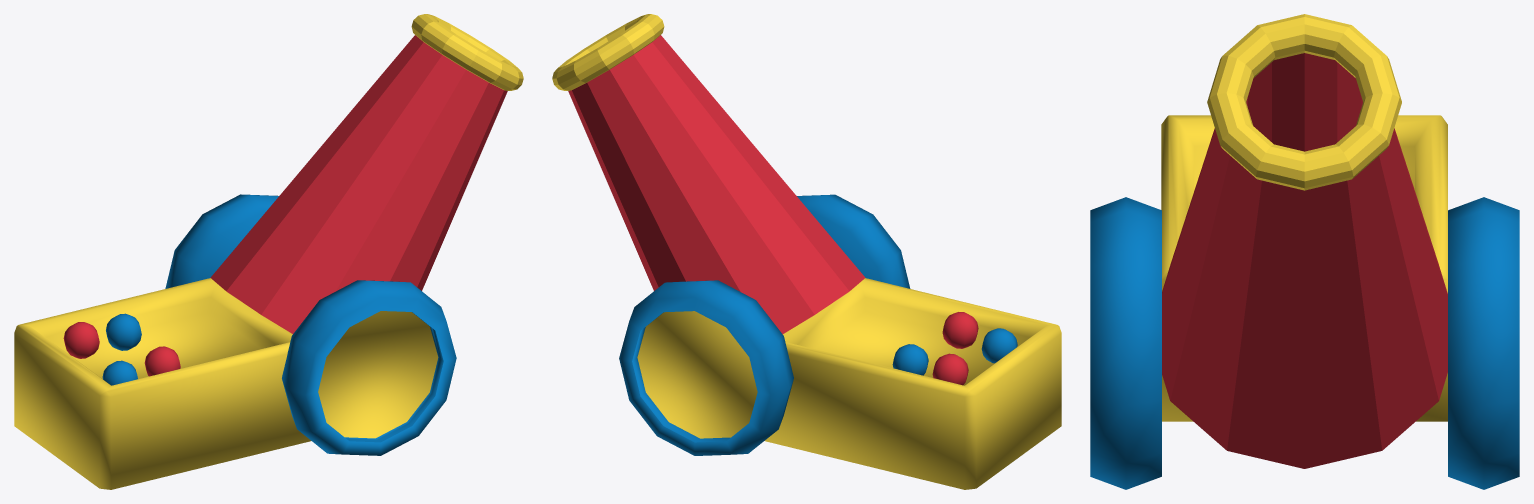
File: toyCannon.fbx
3 views of the same model, side by side, from view 1: azimuth 30°, elevation 25°; view 2: azimuth 150°, elevation 25°; view 3: azimuth 270°, elevation 25° (orthographic). The views are drawn at different scales.
Visible parts, largest first — view 1: Cylinder, Cylinder.017, Cylinder.016, Cylinder.018, Cylinder.015, Cylinder.019, Cylinder.020, Cylinder.010, Cylinder.009, Cylinder.011; view 2: Cylinder, Cylinder.014, Cylinder.015, Cylinder.013, Cylinder.016, Cylinder.024, Cylinder.023, Cylinder.003, Cylinder.002, Cylinder.012; view 3: Cylinder, Cylinder.022, Cylinder.021, Cylinder.023, Cylinder.020, Cylinder.024, Cylinder.019, Cylinder.015, Cylinder.016, Cylinder.005, Cylinder.006, Cylinder.004 (+11 smaller).
Boxes of the visible parts, x1,y1,x2,y2 form: Cylinder: (14, 194, 456, 489); Cylinder.017: (261, 55, 465, 333); Cylinder.016: (226, 42, 441, 314); Cylinder.018: (335, 70, 488, 291); Cylinder.015: (210, 35, 423, 290); Cylinder.019: (390, 83, 503, 286); Cylinder.020: (417, 90, 507, 290); Cylinder.010: (442, 34, 478, 69); Cylinder.009: (466, 48, 501, 82); Cylinder.011: (421, 21, 455, 54); Cylinder: (619, 194, 1061, 489); Cylinder.014: (610, 55, 814, 334); Cylinder.015: (634, 42, 849, 314); Cylinder.013: (587, 70, 740, 291); Cylinder.016: (652, 35, 865, 290); Cylinder.024: (572, 83, 685, 286); Cylinder.023: (568, 90, 658, 290); Cylinder.003: (597, 34, 633, 69); Cylinder.002: (574, 48, 609, 82); Cylinder.012: (620, 21, 654, 54); Cylinder: (1090, 115, 1519, 489); Cylinder.022: (1304, 180, 1382, 468); Cylinder.021: (1227, 180, 1304, 468); Cylinder.023: (1347, 156, 1438, 450); Cylinder.020: (1170, 156, 1261, 450); Cylinder.024: (1379, 129, 1447, 400); Cylinder.019: (1162, 129, 1229, 400); Cylinder.015: (1304, 53, 1337, 151); Cylinder.016: (1272, 53, 1304, 151); Cylinder.005: (1304, 144, 1353, 190); Cylinder.006: (1256, 144, 1304, 190); Cylinder.004: (1335, 124, 1388, 178).
Size of the model in its own units: 969 by 731 by 516.
